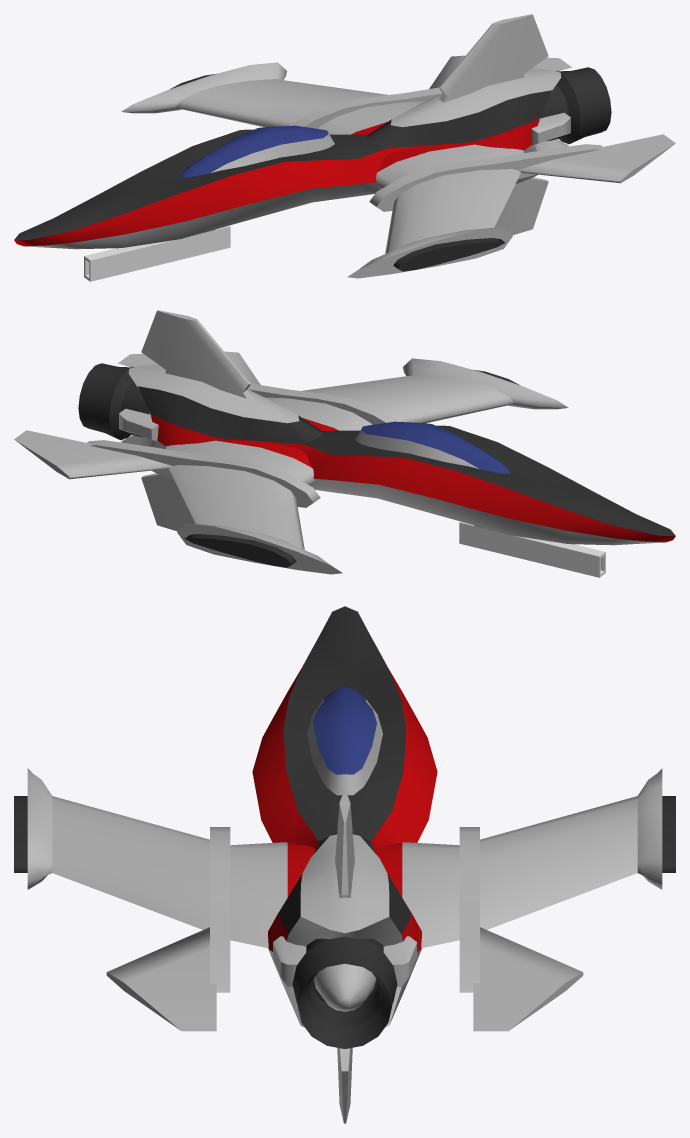
The model's file is Vogel.fbx.
3 renders of one model, top to bottom at view 1: azimuth 30°, elevation 25°; view 2: azimuth 150°, elevation 25°; view 3: azimuth 270°, elevation 25°, orthographic. The views are drawn at different scales.
Visible parts, largest first — view 1: Cube, Cube.001, Plane.002, Cube.003, Plane, Cube.006, Cube.007, Cylinder, Cube.008, Cube.005; view 2: Cube, Cube.001, Plane.002, Cube.003, Plane, Cube.006, Cube.007, Cylinder, Cube.008, Cube.005; view 3: Cube.001, Cube, Plane, Cylinder, Cube.003, Cube.006, Plane.002, Cube.008, Cube.005.
Boxes of the visible parts, x1=… form: Cube: x1=14, y1=68, x2=568, y2=249; Cube.001: x1=121, y1=62, x2=523, y2=278; Plane.002: x1=439, y1=14, x2=548, y2=235; Cube.003: x1=289, y1=87, x2=602, y2=211; Plane: x1=429, y1=55, x2=675, y2=183; Cube.006: x1=179, y1=125, x2=334, y2=177; Cube.007: x1=84, y1=225, x2=230, y2=281; Cylinder: x1=540, y1=67, x2=611, y2=144; Cube.008: x1=170, y1=73, x2=505, y2=271; Cube.005: x1=531, y1=112, x2=570, y2=144; Cube: x1=121, y1=364, x2=675, y2=545; Cube.001: x1=166, y1=358, x2=568, y2=574; Plane.002: x1=141, y1=310, x2=250, y2=531; Cube.003: x1=87, y1=383, x2=400, y2=507; Plane: x1=14, y1=351, x2=260, y2=479; Cube.006: x1=355, y1=421, x2=510, y2=473; Cube.007: x1=459, y1=521, x2=605, y2=577; Cylinder: x1=78, y1=363, x2=149, y2=440; Cube.008: x1=184, y1=369, x2=519, y2=567; Cube.005: x1=119, y1=408, x2=158, y2=440; Cube.001: x1=27, y1=768, x2=662, y2=948; Cube: x1=252, y1=606, x2=437, y2=1027; Plane: x1=106, y1=927, x2=583, y2=1031; Cylinder: x1=292, y1=936, x2=397, y2=1048; Cube.003: x1=210, y1=827, x2=479, y2=992; Cube.006: x1=307, y1=686, x2=382, y2=795; Plane.002: x1=335, y1=795, x2=354, y2=1123; Cube.008: x1=14, y1=796, x2=675, y2=872; Cube.005: x1=273, y1=936, x2=416, y2=986.
Bounding box in the file's own units: 1123 × 381 × 759.
